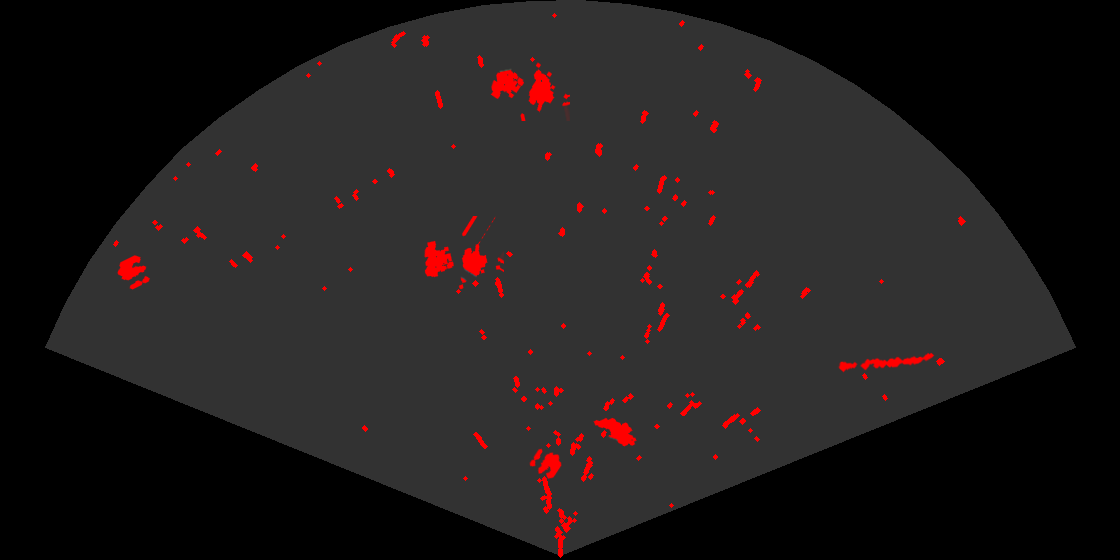AUV: (592, 416, 638, 448)
ball: (116, 254, 151, 291), (528, 447, 563, 481)
cage: (422, 216, 504, 291), (489, 61, 570, 121)
chain: (837, 351, 936, 374)
